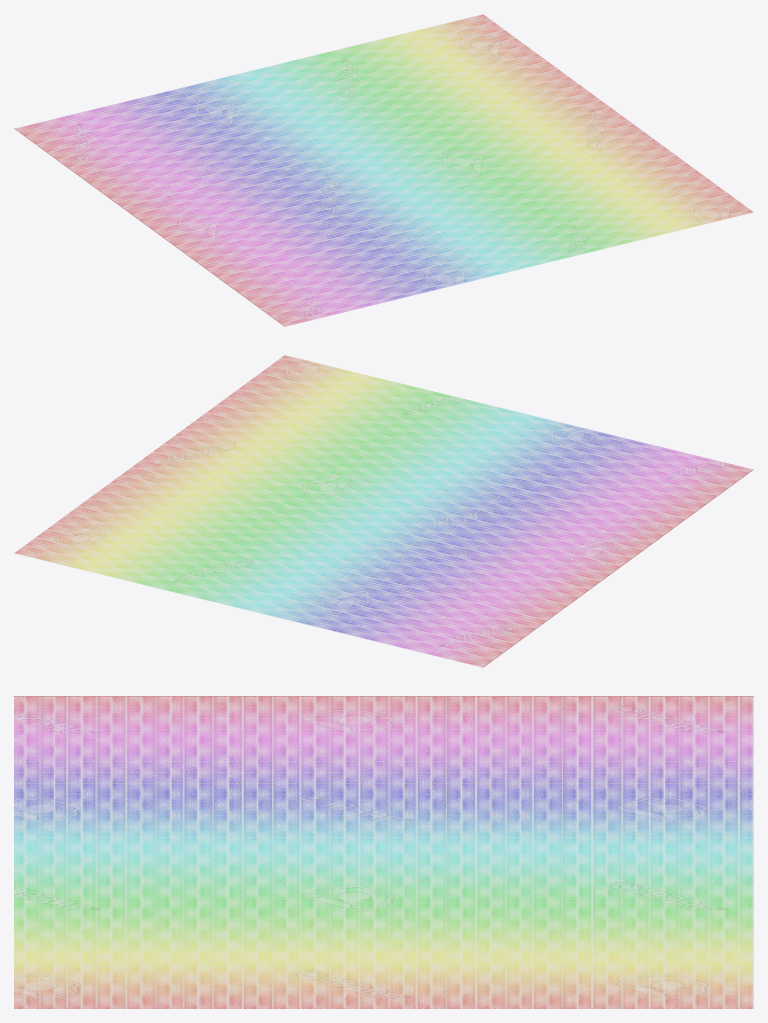
Rendered from floor.obj.
3 renders of one model, top to bottom at view 1: azimuth 30°, elevation 25°; view 2: azimuth 150°, elevation 25°; view 3: azimuth 270°, elevation 25°, orthographic. The views are drawn at different scales.
Parts seen in each view (by area): view 1: 平面; view 2: 平面; view 3: 平面.
Boxes of the visible parts, bbox=[...] form: 平面: bbox=[14, 14, 753, 326]; 平面: bbox=[14, 355, 753, 667]; 平面: bbox=[14, 696, 753, 1008].
Bounding box in the file's own units: 2 × 0 × 2.
Materials: 1 (1 with a texture image).
